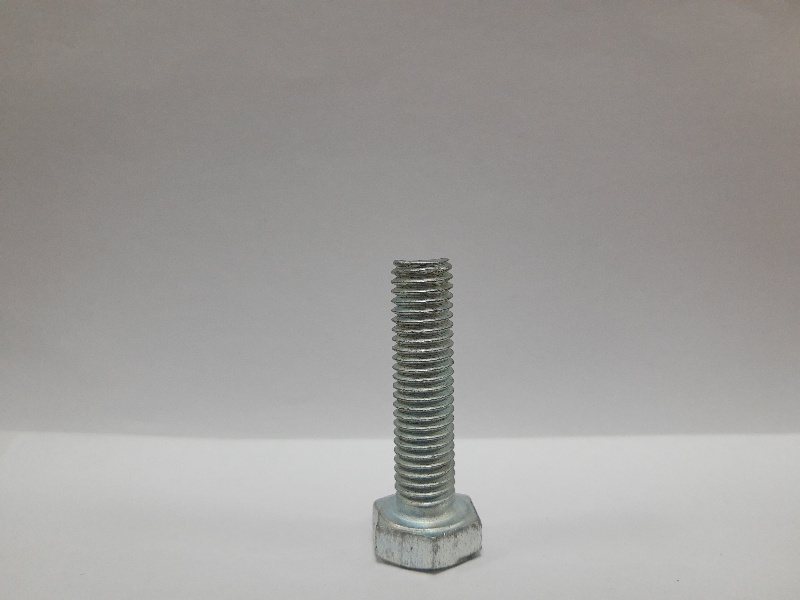pf: (369, 255, 492, 578)
